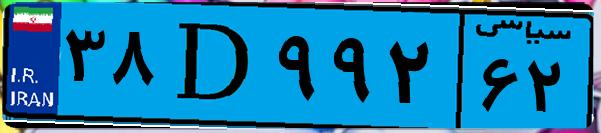2: (385, 28, 445, 110), (525, 38, 570, 115)
3: (57, 26, 110, 100)
6: (475, 38, 525, 113)
8: (110, 28, 158, 98)
9: (270, 28, 330, 110), (330, 28, 385, 110)
D: (158, 12, 270, 120)
